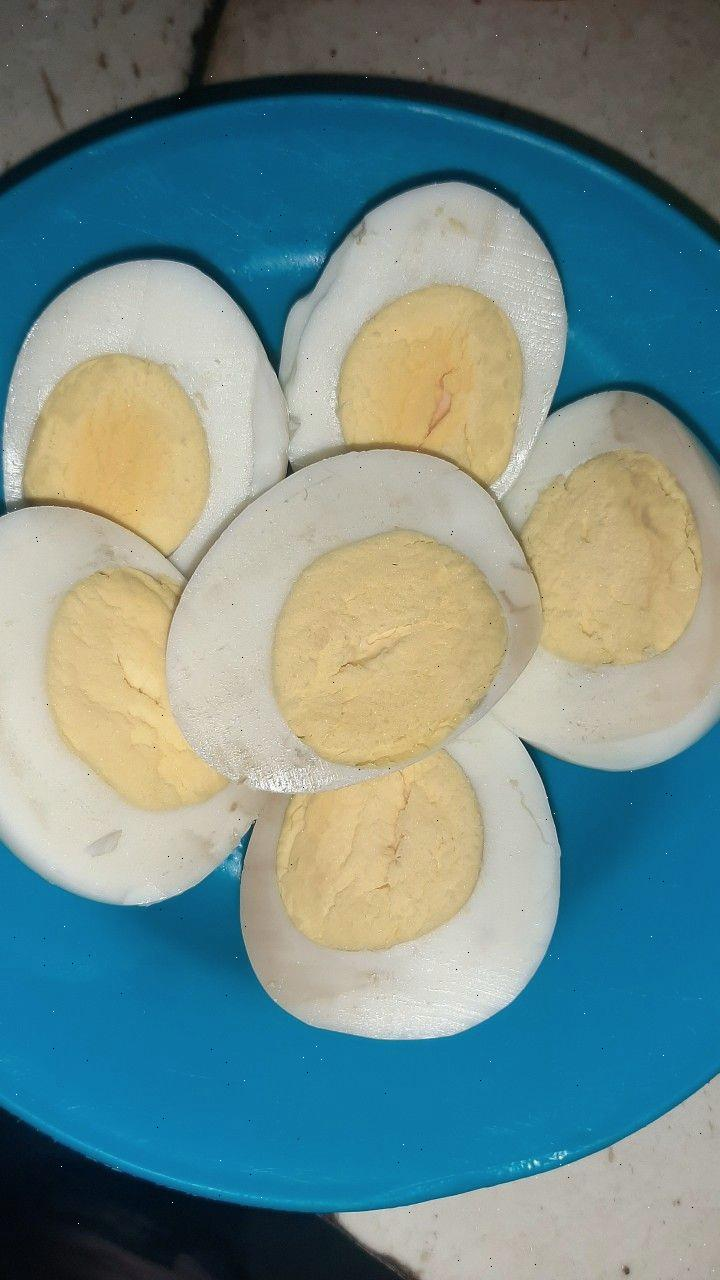eggs: (23, 198, 687, 1068)
